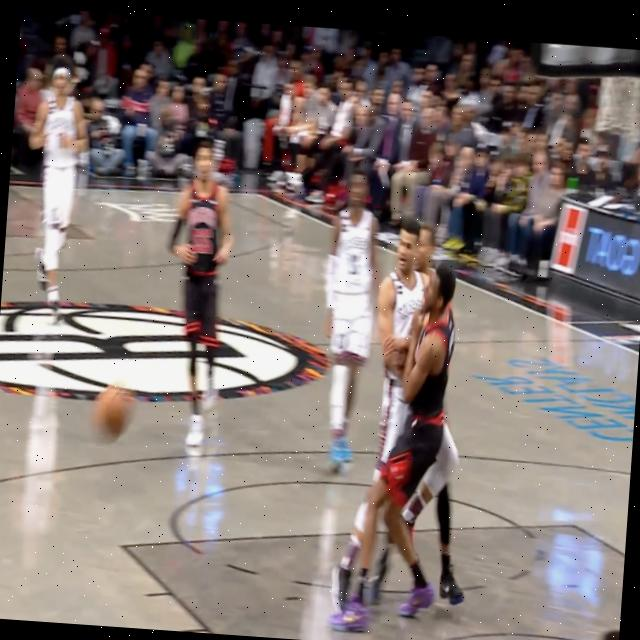foul: (348, 203, 501, 640)
no foul: (144, 132, 276, 472)
